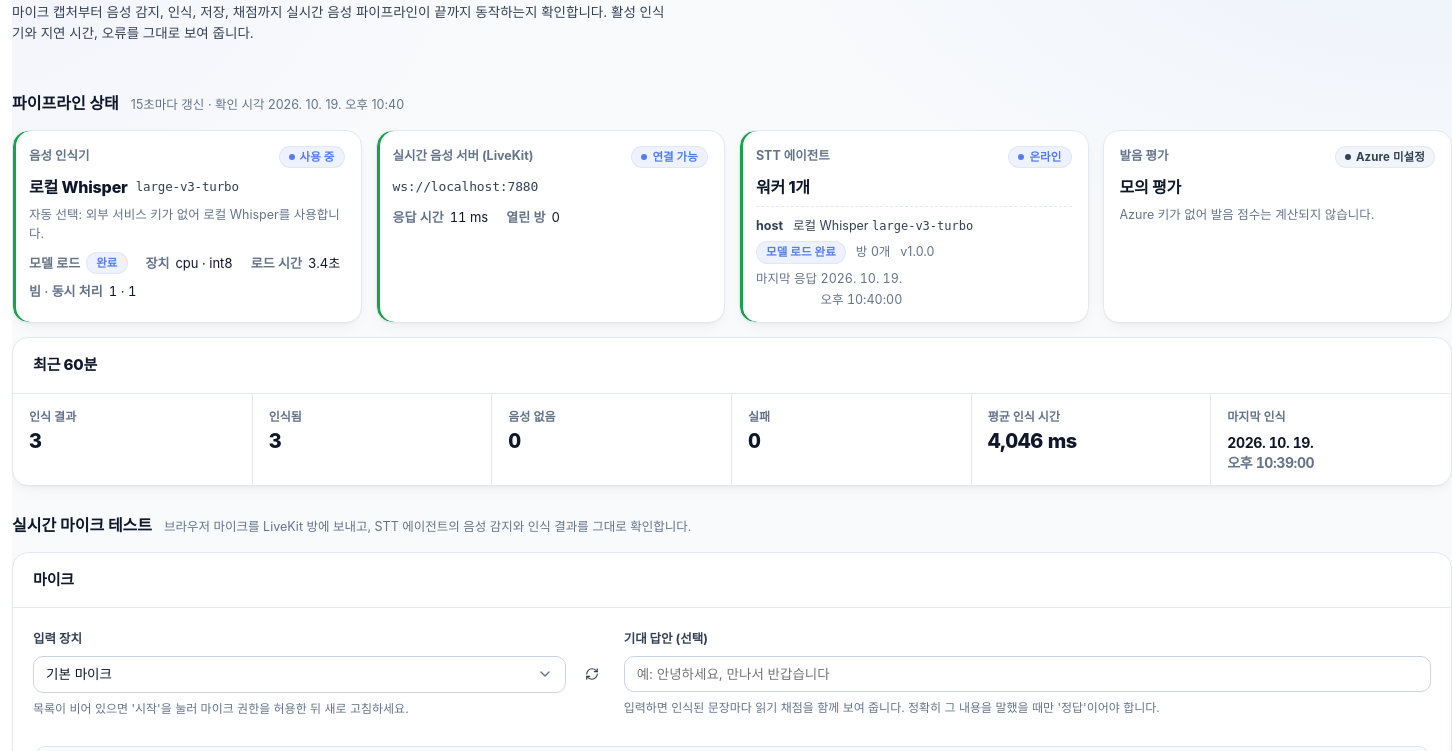
Scenario: 실시간 마이크 테스트 › opens a session, joins the room and logs a transcript with its grade
Type "안녕하세요" into the field labelled "기대 답안". click: (1027, 674)
box: [624, 656, 1431, 692]
(page scrolled)
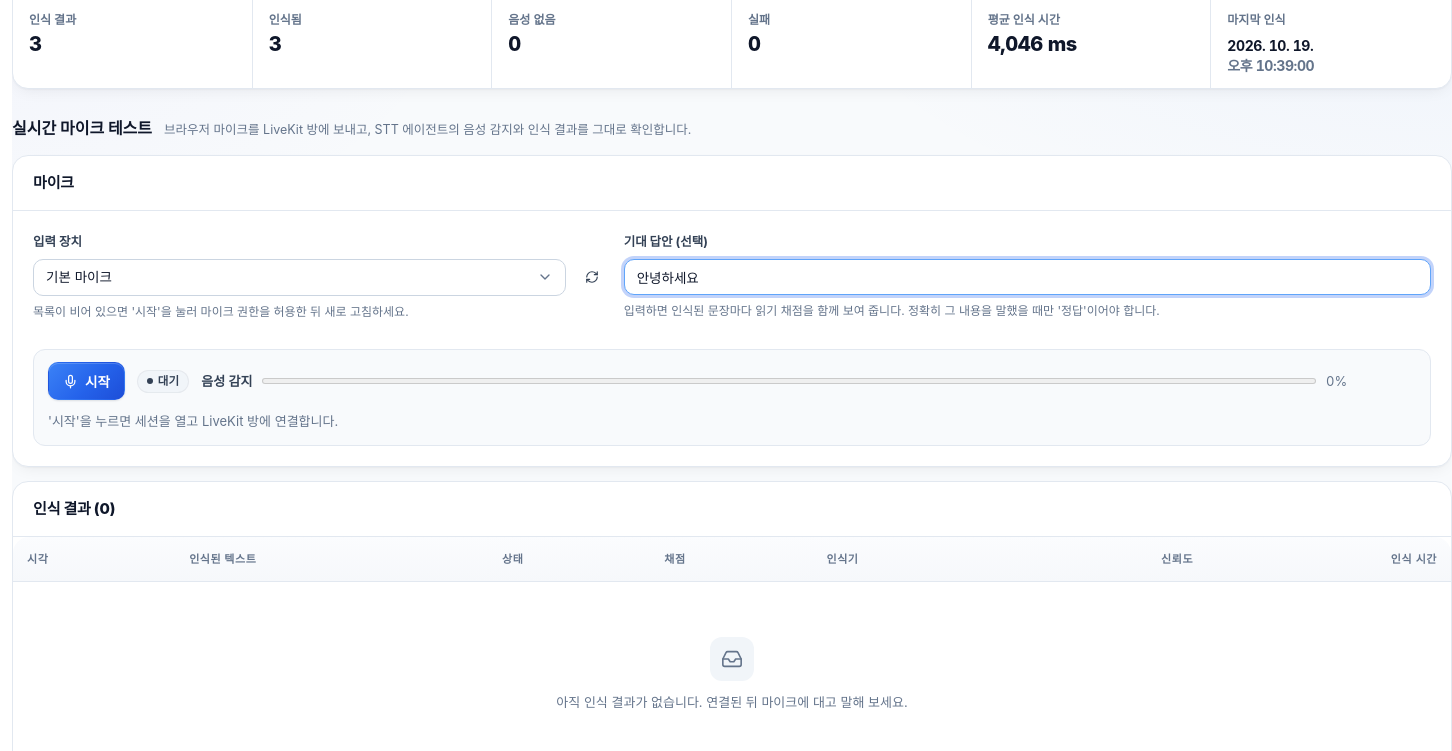
Click the button "시작". click: (86, 382)
box: [48, 362, 125, 400]
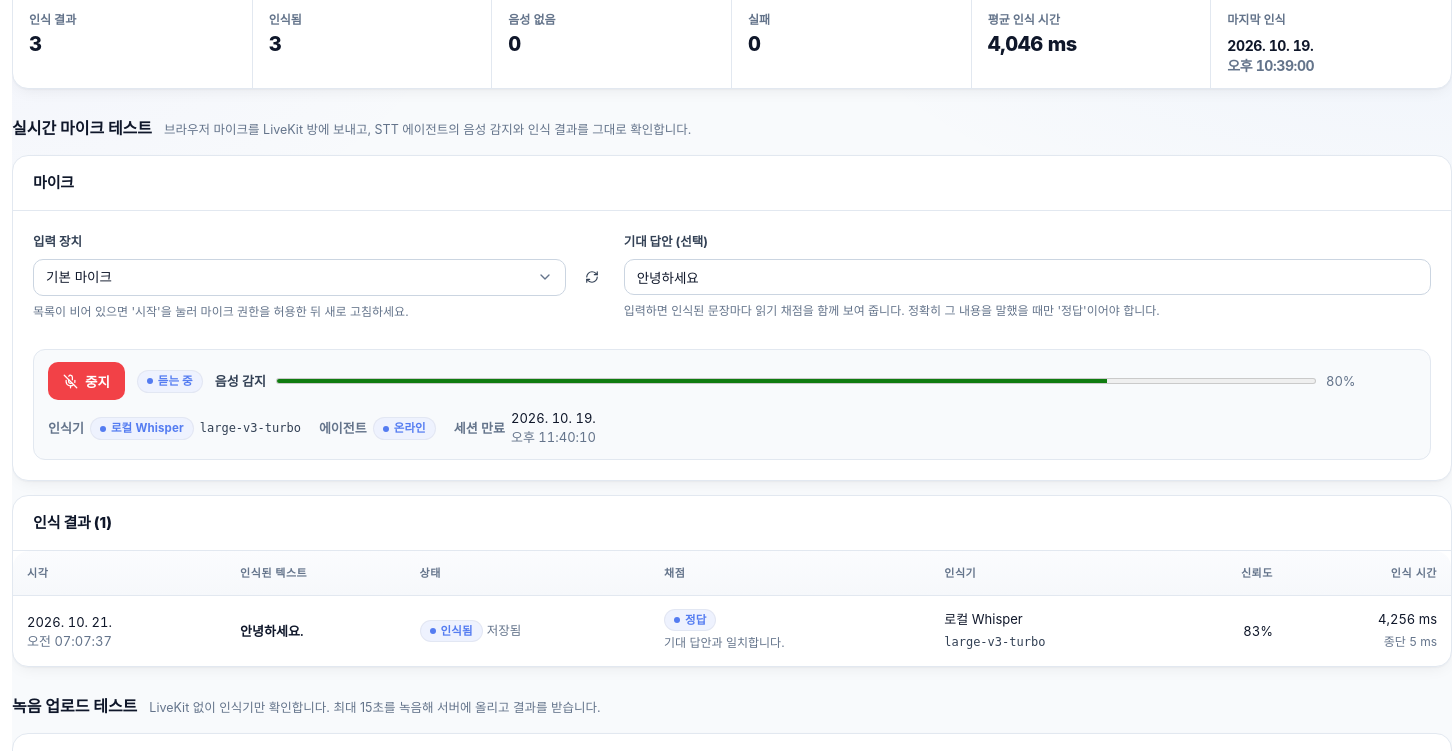
Now the text "로컬 Whisper" is shown, box [90, 418, 194, 440]
Now the text "large-v3-turbo" in the row of "세션 만료" is shown, box [200, 421, 301, 435]
Now the text "온라인" is shown, box [373, 418, 436, 440]
Click the button "중지". click: (86, 382)
box: [48, 362, 125, 400]
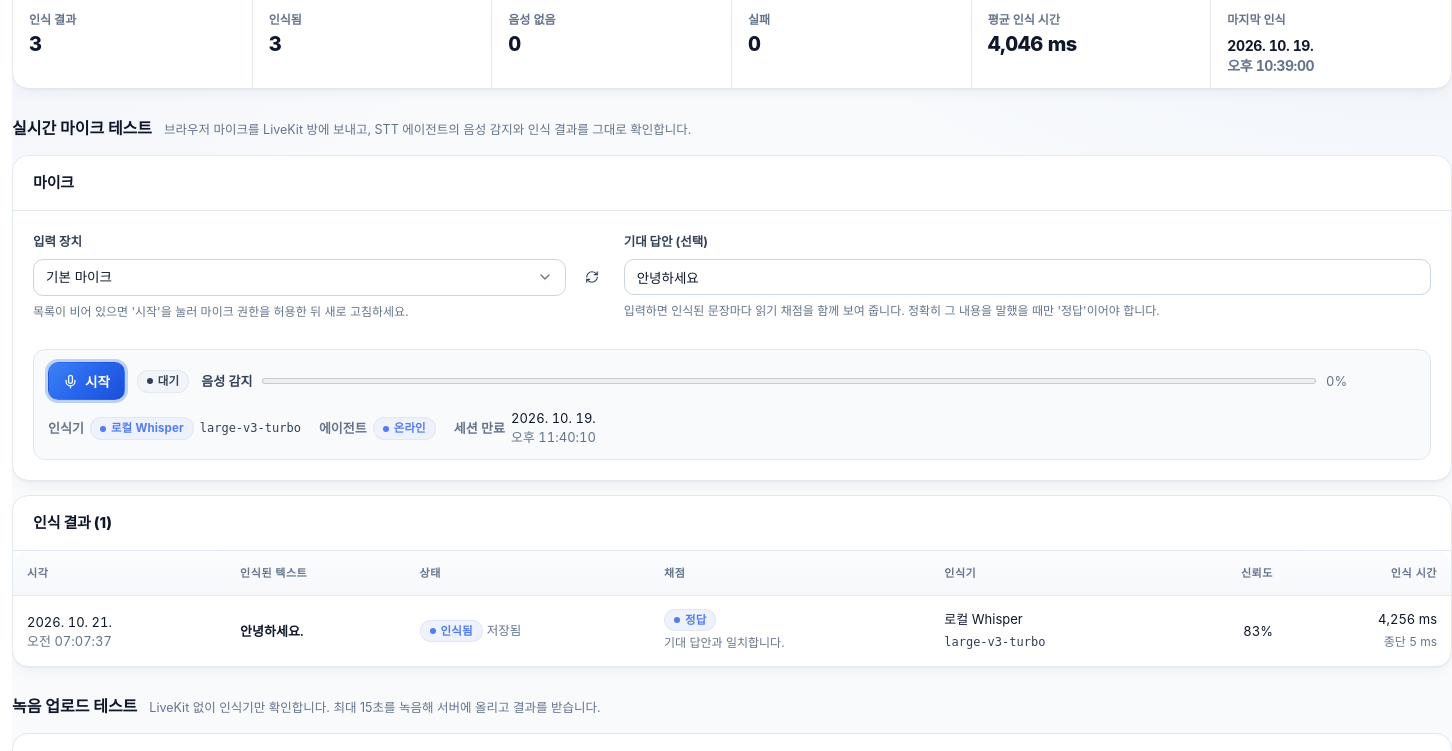
Now the text "대기" is shown, box [137, 370, 189, 392]
